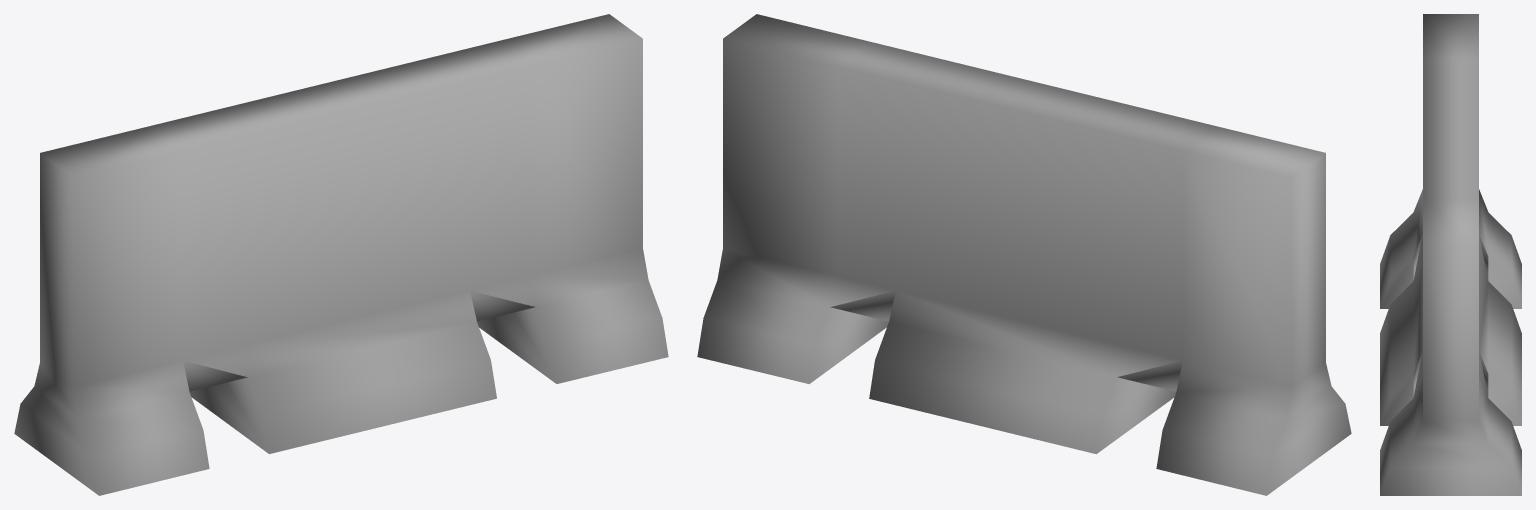
The model's file is concrete barrier.glb.
3 views of the same model, side by side, from view 1: azimuth 30°, elevation 25°; view 2: azimuth 150°, elevation 25°; view 3: azimuth 270°, elevation 25° (orthographic). The views are drawn at different scales.
Parts seen in each view (by area): view 1: crash barrier; view 2: crash barrier; view 3: crash barrier.
Part boxes in pixels (box(x1,y1,x2,y2)): crash barrier: box(14, 14, 668, 495); crash barrier: box(697, 14, 1351, 495); crash barrier: box(1380, 14, 1521, 495).
Size of the model in its own units: 0.9966 by 0.5012 by 0.2577.
1 material, 1 textured.
